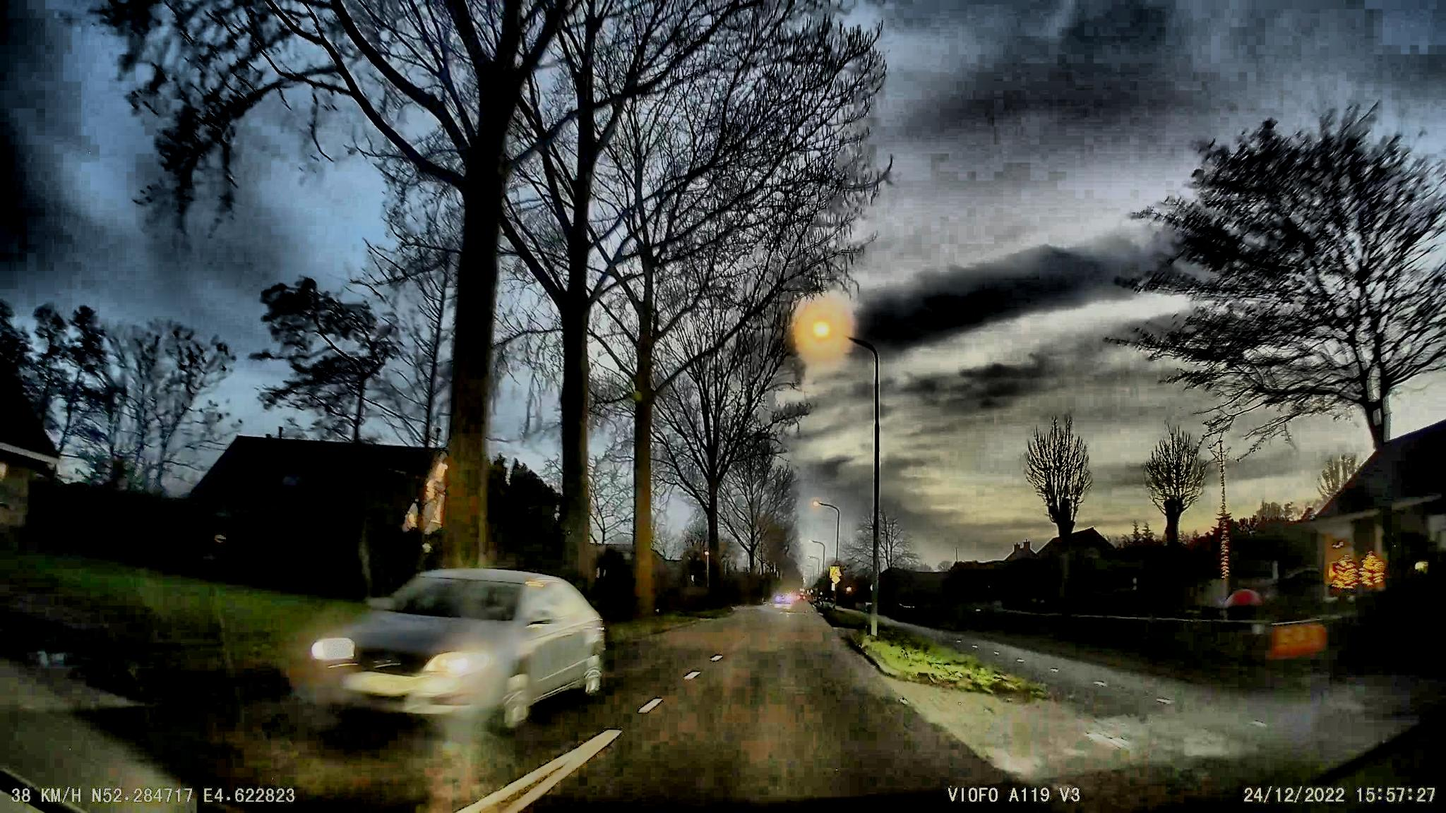Roads: (389, 610, 1446, 813)
